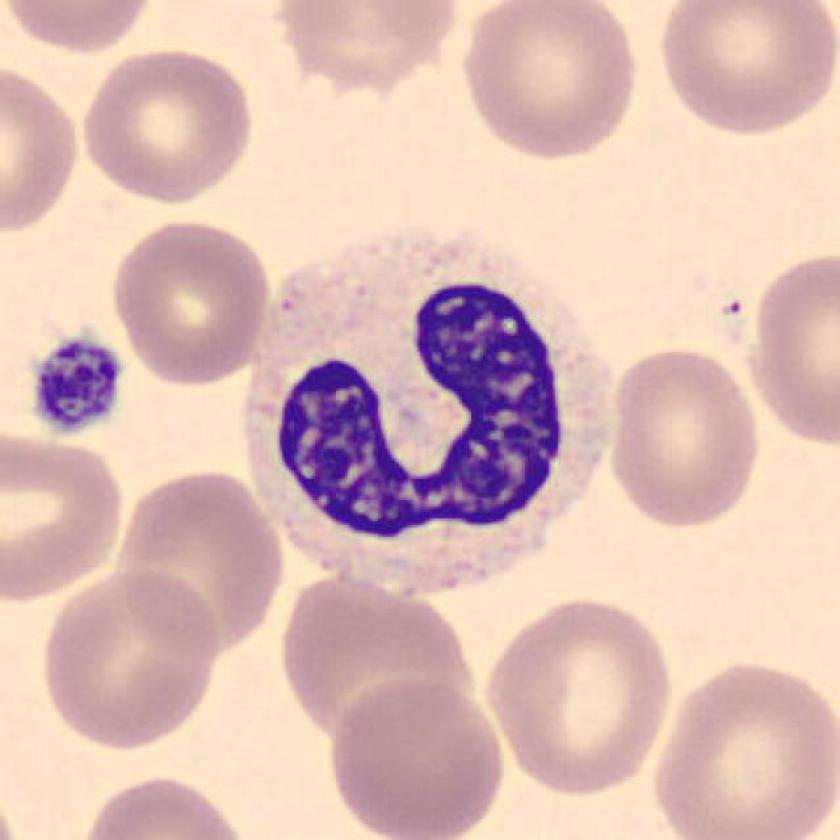neutrophil: (244, 232, 613, 601)
